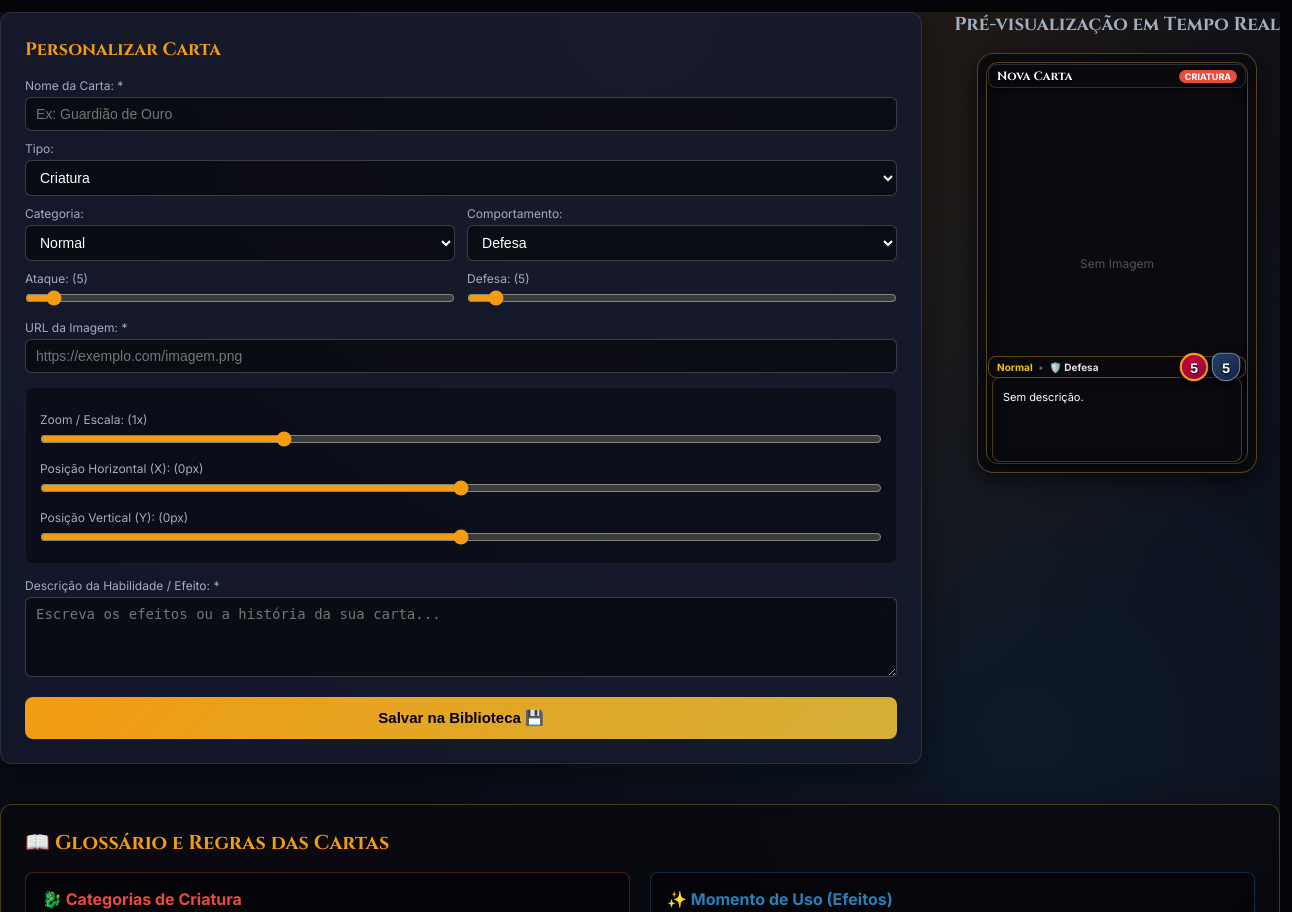
Test case: CardCreatorSection Component › deve alterar o nome da carta e os valores de Ataque e Defesa via slider
Type "Lorde das Sombras" into the field with placeholder "Ex: Guardião de Ouro" at (461, 114), box [25,97,897,131]
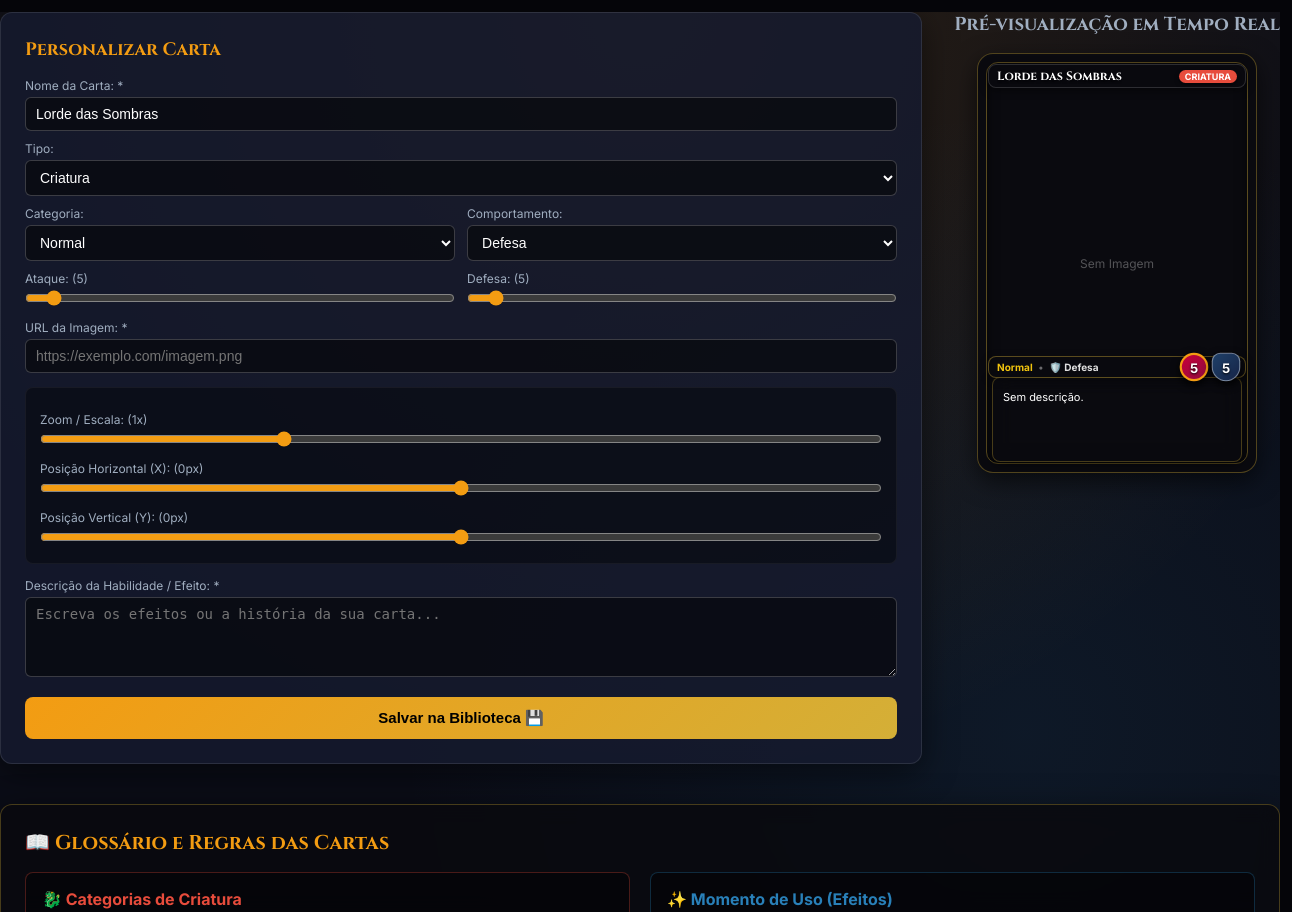
Set the slider below "Ataque: (" to "65" at (305, 298), box [25,290,455,306]
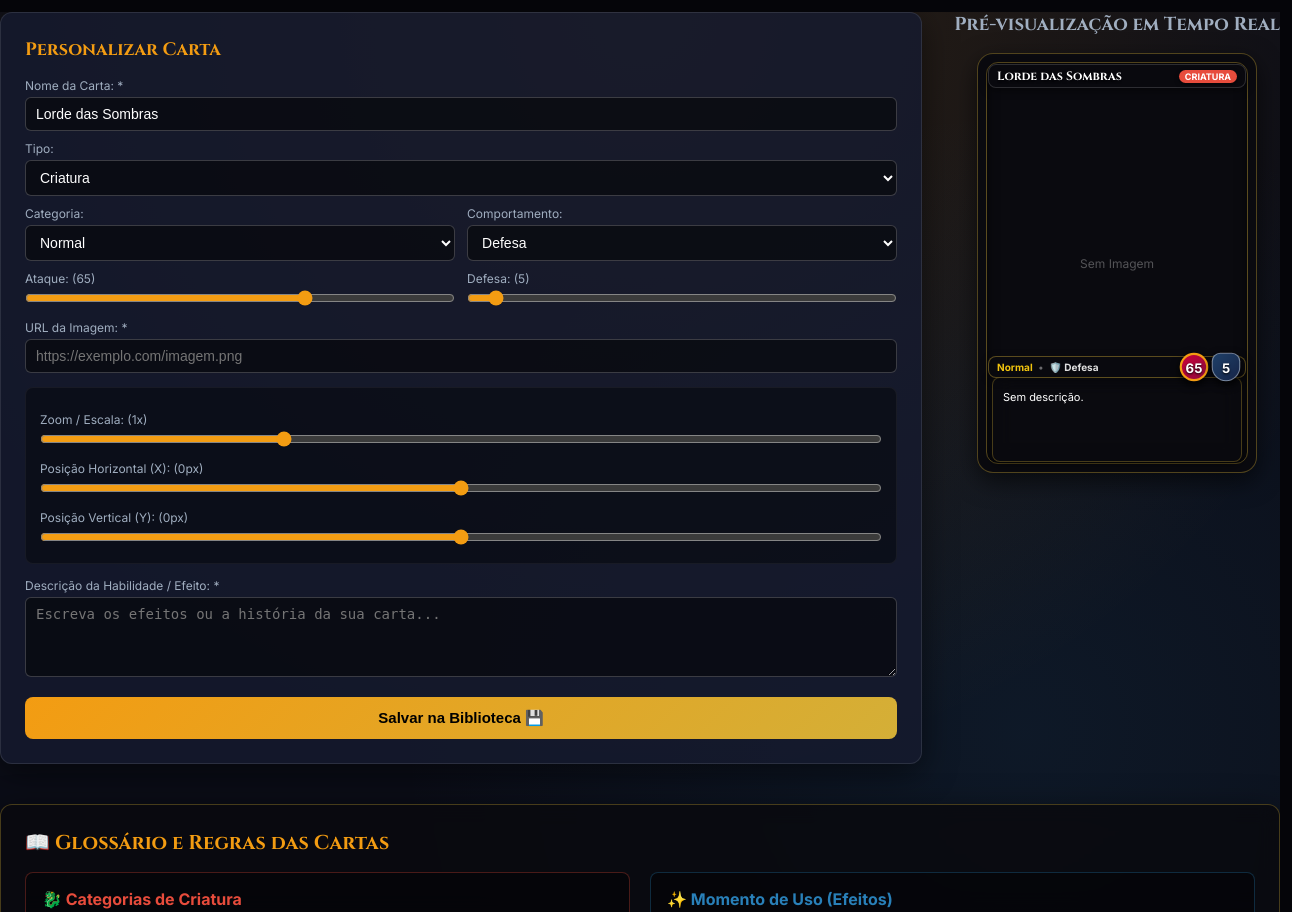
Check: the text "Ataque: (65)" is shown, box [25,271,95,286]
